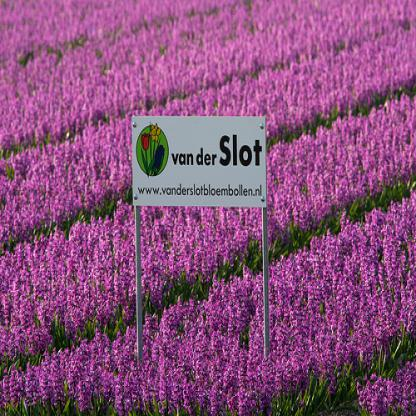TULIP: (2, 20, 125, 376), (280, 122, 410, 407), (133, 5, 411, 106), (150, 235, 261, 406)
